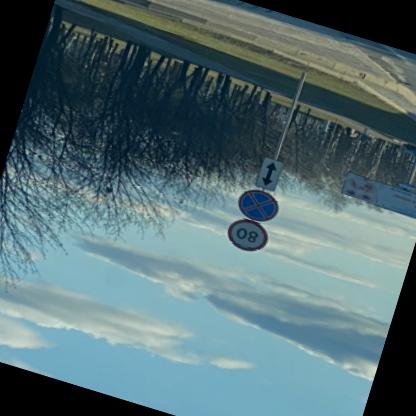speedlimit: (226, 217, 274, 258)
